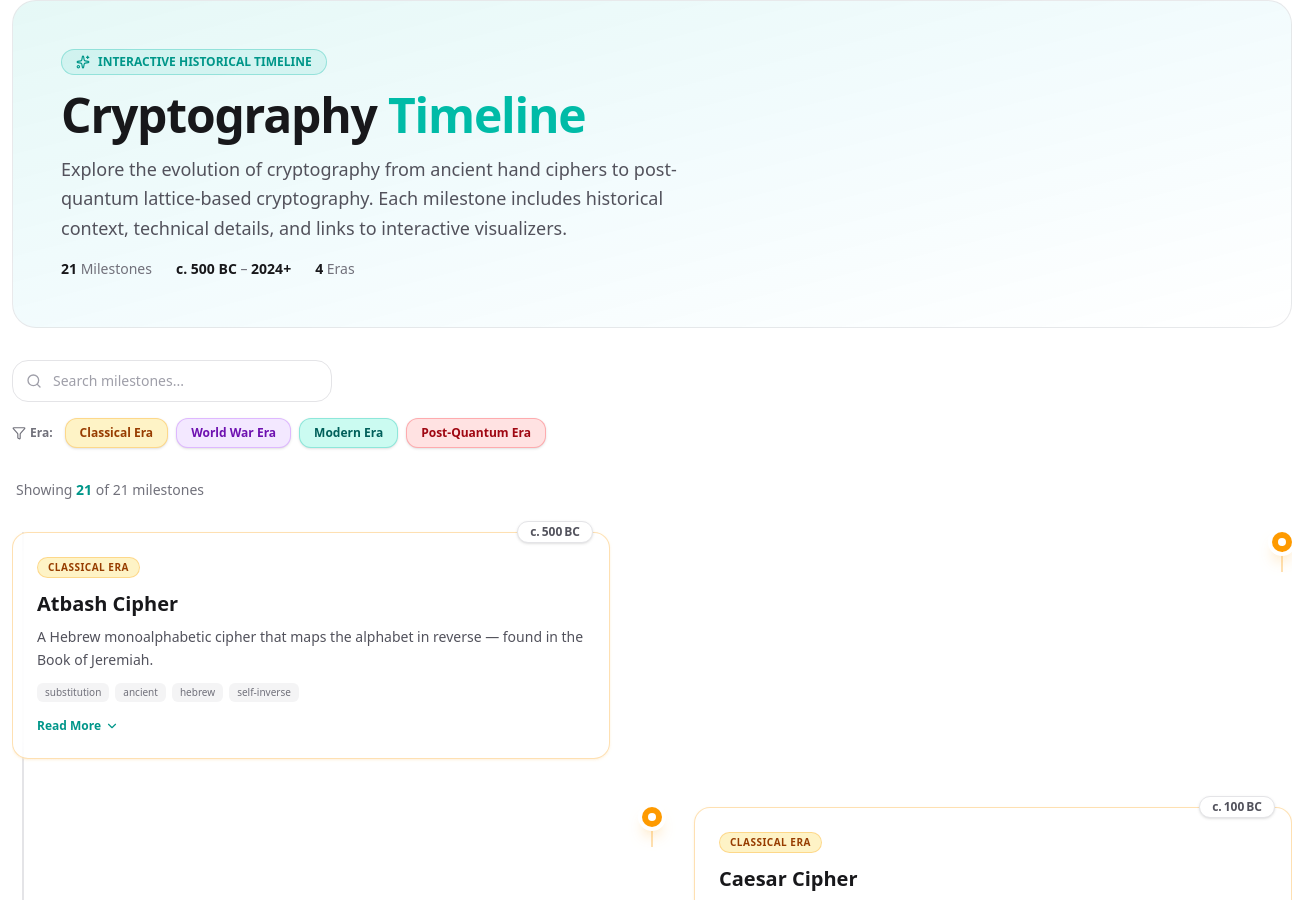
CryptoTimeline Component › filters milestones by era button click
The image size is (1292, 900).
# Clicking Classical Era toggles off classical entries
Click the button "Classical Era" at (116, 433), box [65, 418, 168, 448]
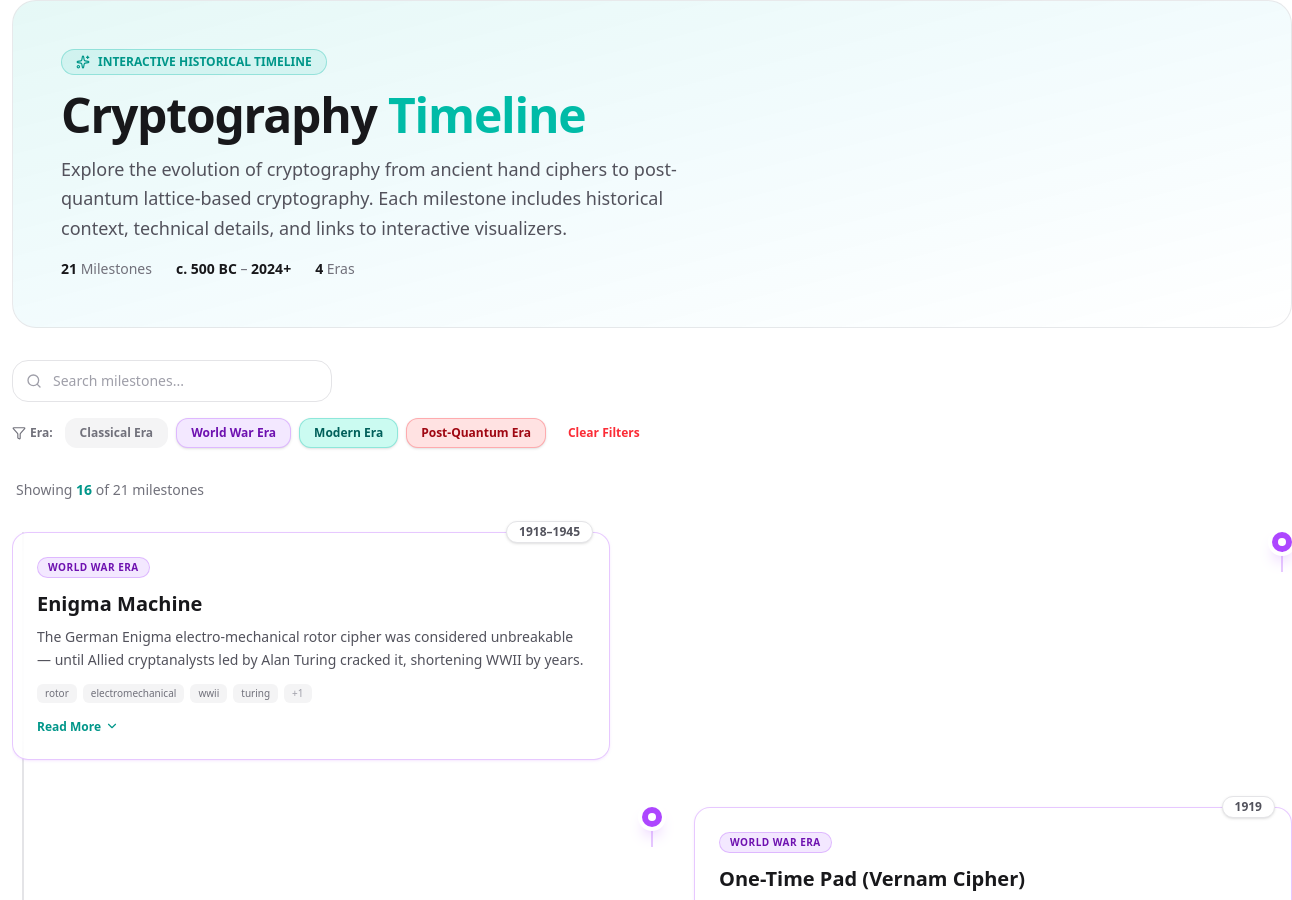
Result: the button "Caesar Cipher" is gone
